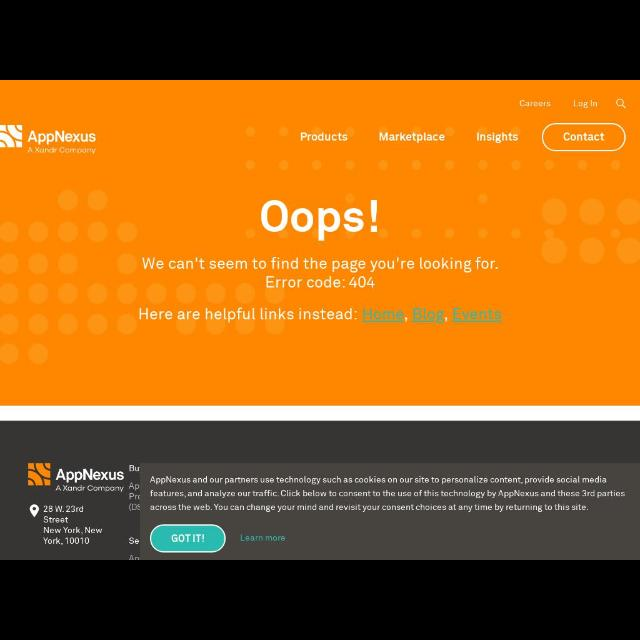icon: (614, 99, 626, 111), (29, 505, 39, 517)
image: (2, 125, 98, 156), (27, 464, 124, 494)
link: (451, 306, 504, 324), (360, 306, 404, 324), (411, 306, 445, 326)
text: (150, 474, 624, 512), (142, 257, 498, 289), (138, 306, 502, 326), (262, 199, 378, 243), (43, 506, 101, 546), (380, 132, 444, 144), (171, 532, 205, 546), (299, 132, 346, 142), (562, 132, 606, 142), (240, 533, 284, 543), (477, 133, 518, 143), (520, 100, 550, 108), (574, 100, 598, 110)
textbutton: (544, 122, 626, 150), (149, 524, 225, 552)
